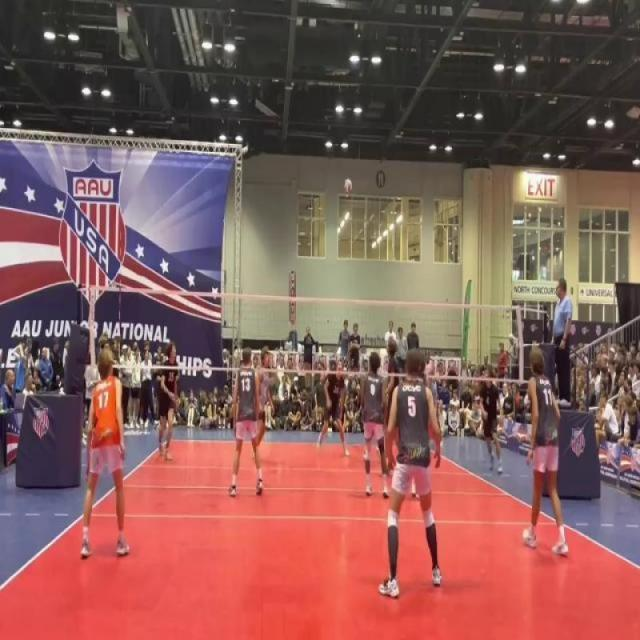volleyball: (342, 176, 353, 196)
